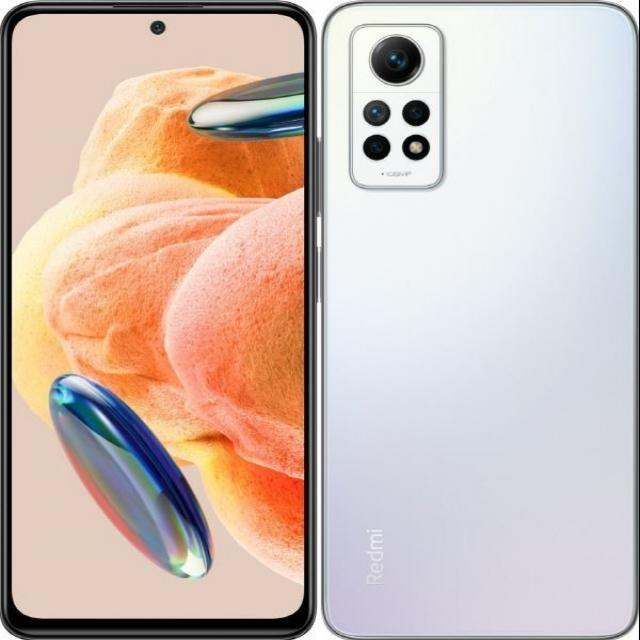phone: (320, 1, 640, 640)
